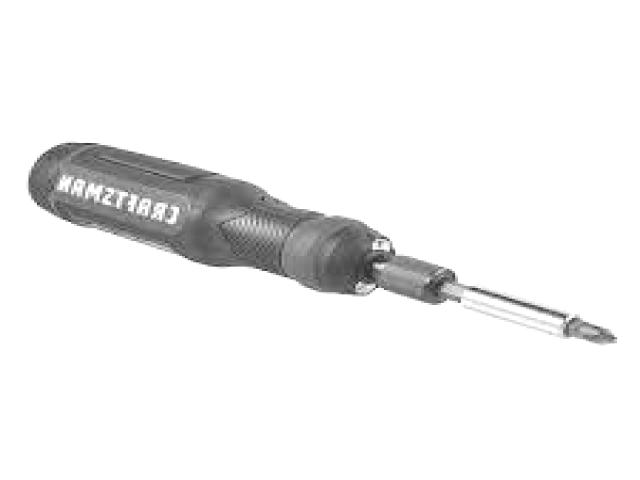Screwdriver: (29, 143, 616, 343)
